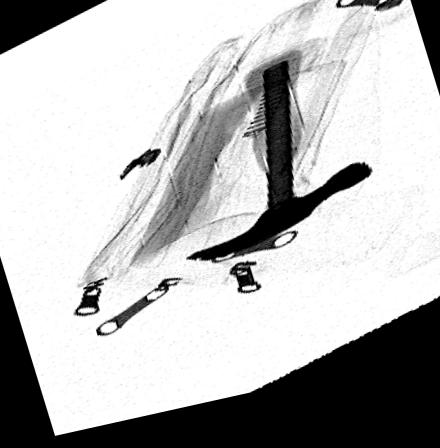Hammer: (184, 61, 375, 271)
